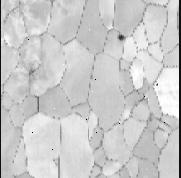good_void: (23, 61, 44, 79), (112, 31, 127, 43), (52, 157, 59, 166), (138, 116, 144, 123), (156, 81, 160, 87)
